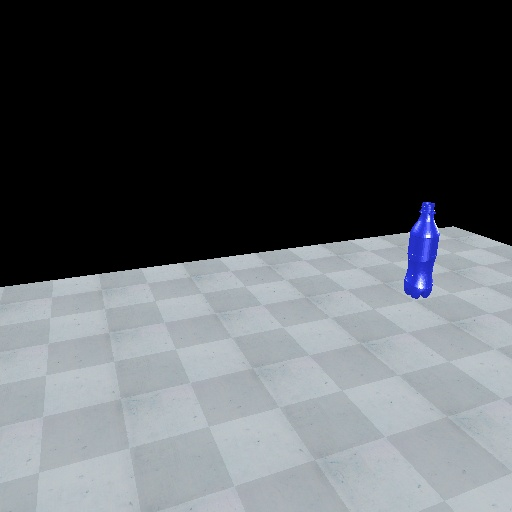bottle: (401, 199, 443, 301)
